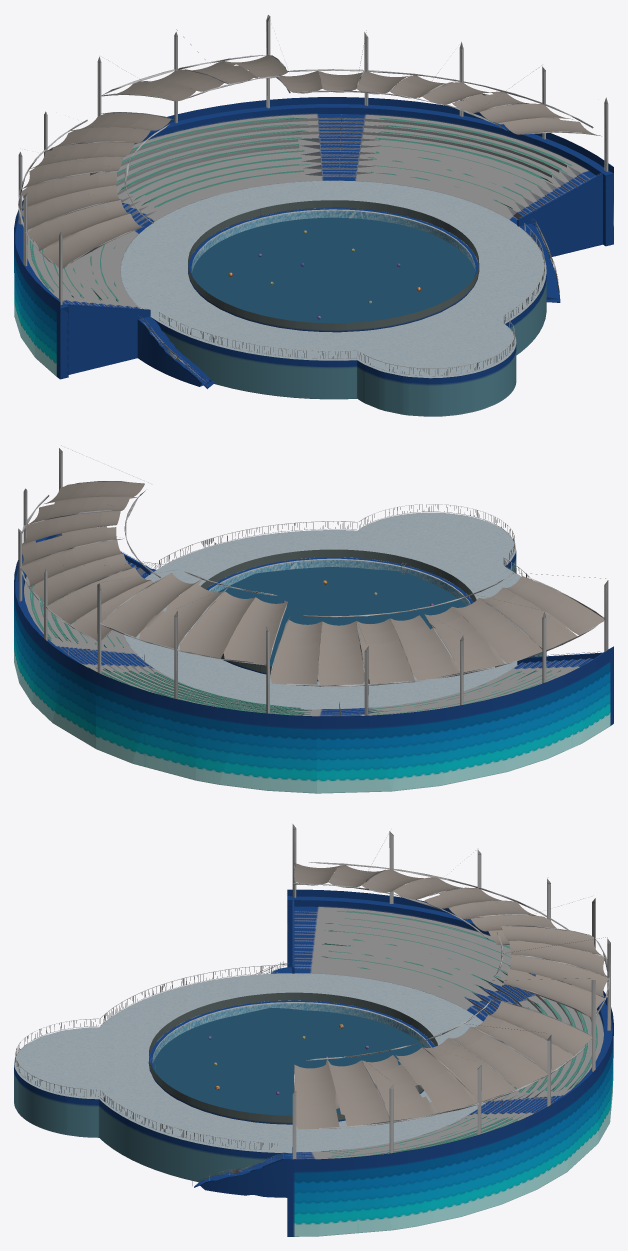
File: DolphinShow_LOD2.fbx
3 renders of one model, top to bottom at view 1: azimuth 30°, elevation 25°; view 2: azimuth 150°, elevation 25°; view 3: azimuth 270°, elevation 25°, orthographic.
Visible parts, largest first — view 1: DolphinShow_Body, Water; view 2: DolphinShow_Body, Water; view 3: DolphinShow_Body, Water.
Part boxes in pixels (x1,y1,x2,y2): DolphinShow_Body: [14, 15, 613, 416]; Water: [192, 217, 475, 323]; DolphinShow_Body: [14, 445, 613, 793]; Water: [218, 567, 468, 666]; DolphinShow_Body: [14, 824, 613, 1236]; Water: [152, 1008, 425, 1115].
Size of the model in its own units: 3543 by 1009 by 3326.
Materials: 1 (1 with a texture image).
